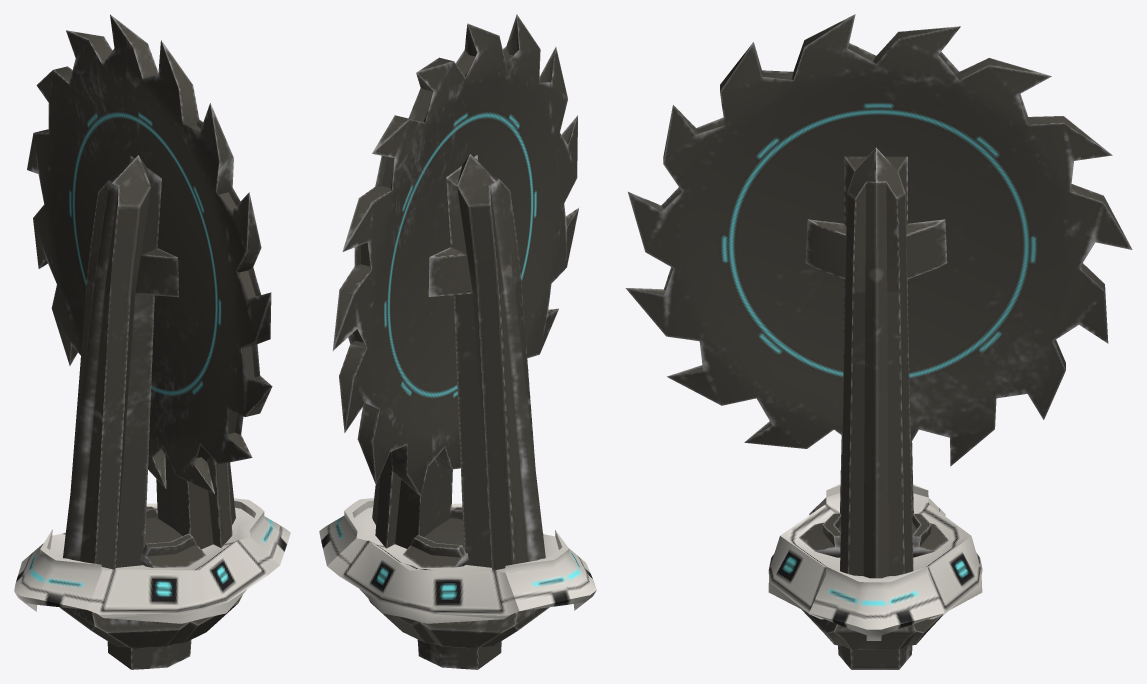
The model's file is Robot_Saw.FBX.
The picture shows the model from 3 angles, left to right: view 1: azimuth 30°, elevation 25°; view 2: azimuth 150°, elevation 25°; view 3: azimuth 270°, elevation 25°; orthographic projection. The views are drawn at different scales.
Parts seen in each view (by area): view 1: Robot_Saw_Blade, Robot_Saw; view 2: Robot_Saw_Blade, Robot_Saw; view 3: Robot_Saw_Blade, Robot_Saw.
Boxes of the visible parts, x1,y1,x2,y2 form: Robot_Saw_Blade: [27, 14, 272, 493]; Robot_Saw: [14, 155, 290, 669]; Robot_Saw_Blade: [332, 14, 578, 496]; Robot_Saw: [319, 154, 596, 669]; Robot_Saw_Blade: [625, 14, 1132, 466]; Robot_Saw: [768, 147, 982, 669].
Size of the model in its own units: 216 by 476 by 341.
